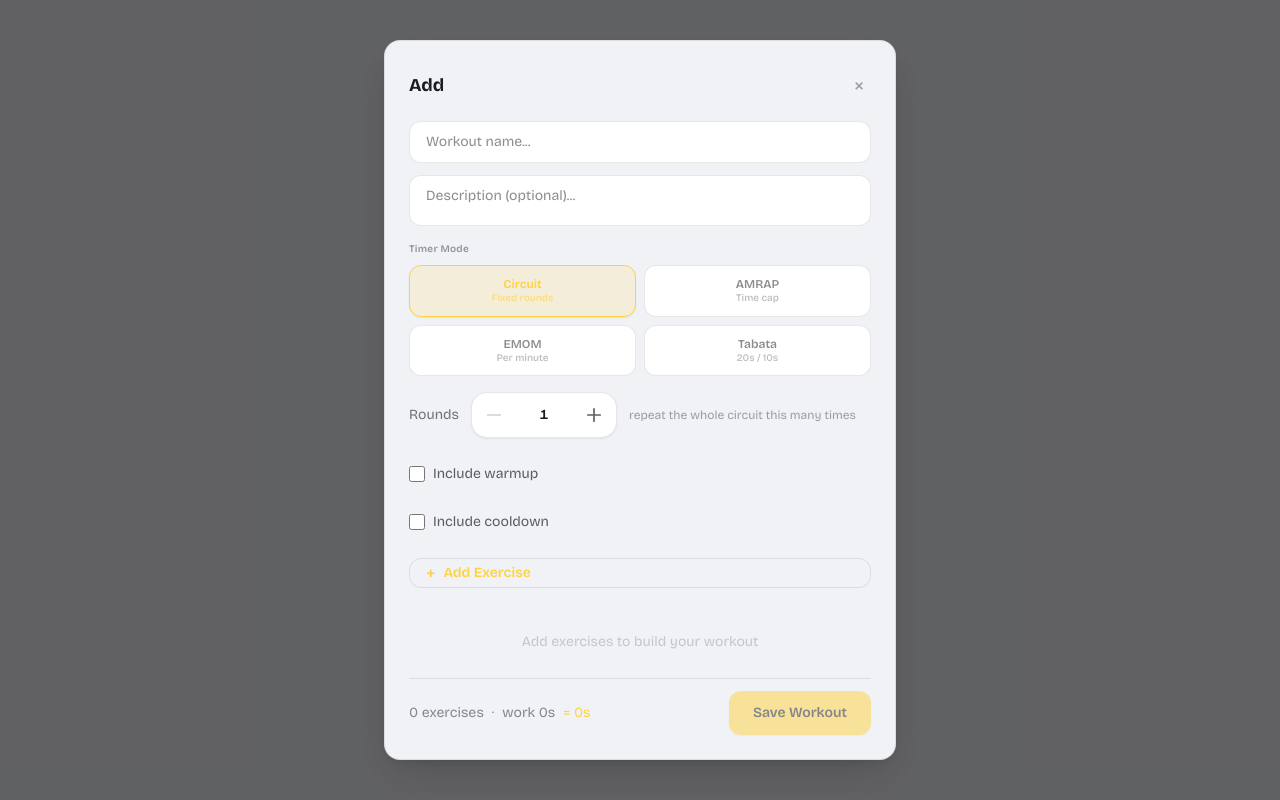
Test: WorkoutEditor › Save button is enabled when name is filled
Type "My Workout" into the field with placeholder "Workout name...". click: (640, 142)
box: left=409, top=121, right=871, bottom=163
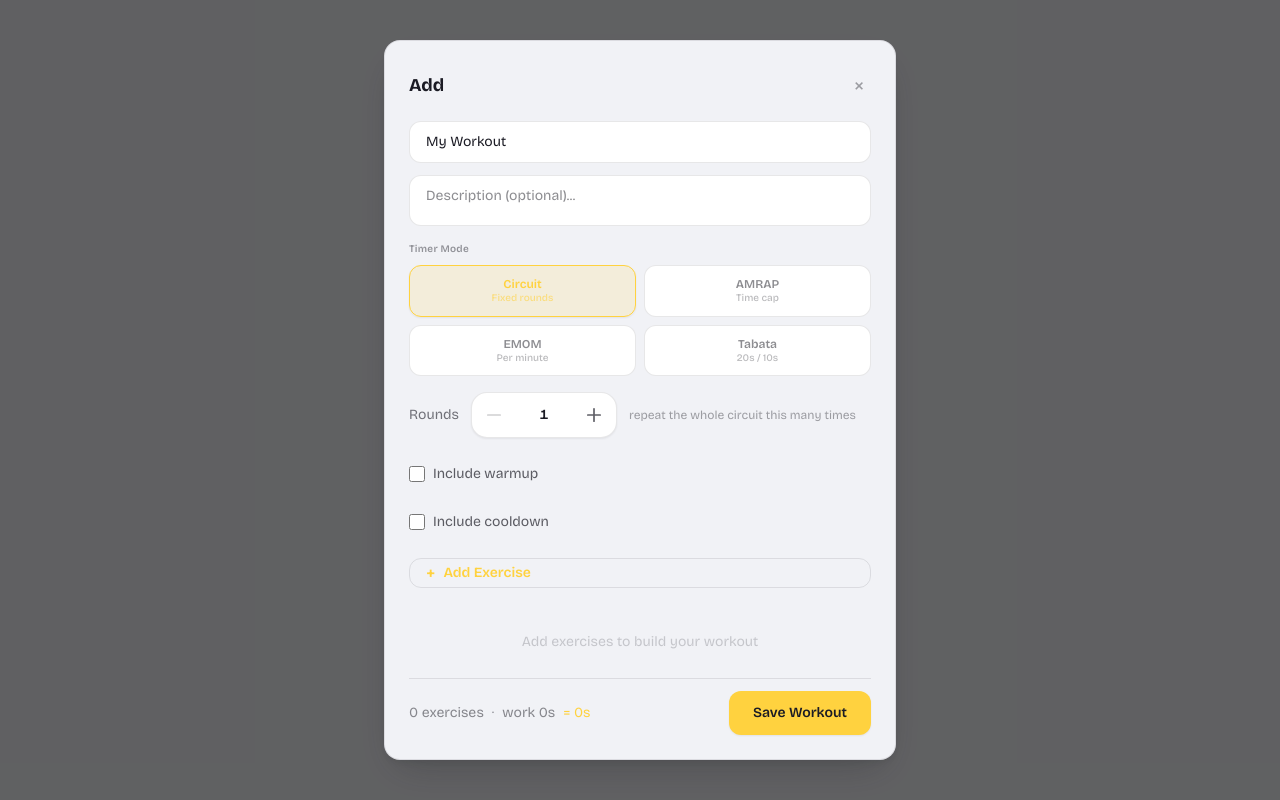
Expected: the button "Save Workout" is enabled, left=729, top=691, right=871, bottom=735
